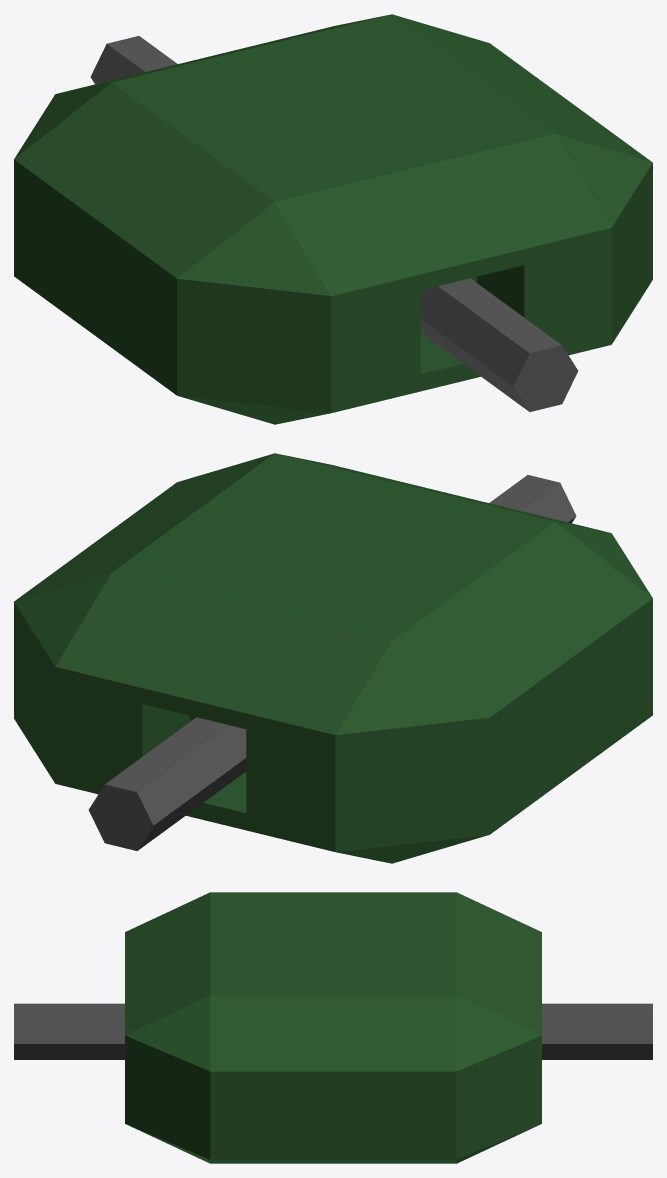
File: Tower Head Single 2 Dir.fbx
The picture shows the model from 3 angles, top to bottom: view 1: azimuth 30°, elevation 25°; view 2: azimuth 150°, elevation 25°; view 3: azimuth 270°, elevation 25°; orthographic projection. The views are drawn at different scales.
Parts seen in each view (by area): view 1: Singleshot 2 Direction Head; view 2: Singleshot 2 Direction Head; view 3: Singleshot 2 Direction Head.
Boxes of the visible parts, <box> form: Singleshot 2 Direction Head: <box>14,14,652,424</box>; Singleshot 2 Direction Head: <box>14,453,652,863</box>; Singleshot 2 Direction Head: <box>14,892,652,1163</box>.
Size of the model in its own units: 121 by 54.18 by 187.
